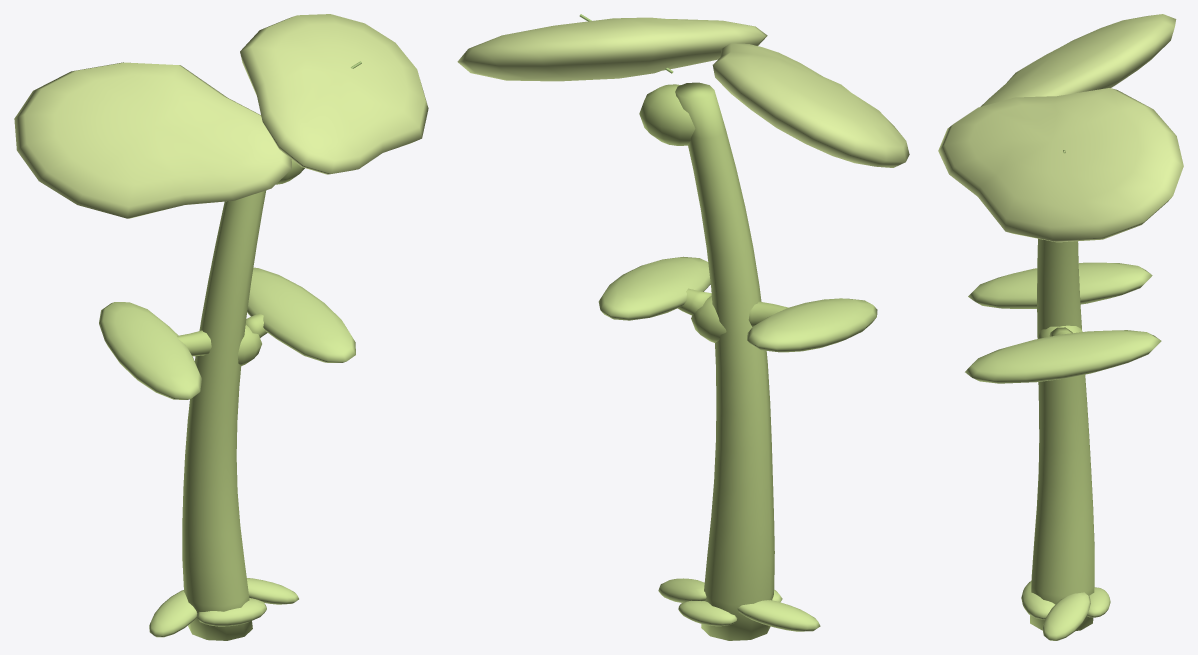
Rendered from young-sprout.glb.
The picture shows the model from 3 angles, left to right: view 1: azimuth 30°, elevation 25°; view 2: azimuth 150°, elevation 25°; view 3: azimuth 270°, elevation 25°; orthographic projection. The views are drawn at different scales.
Visible parts, largest first — view 1: Sprout Top Leaf Left - Big Rounded, Sprout Top Leaf Right - Big Rounded, Sprout Stem - Tall Gentle Curve, Sprout Middle Leaf Left - Small Side, Sprout Middle Leaf Right - Small Side, Sprout Base Leaf Left, Sprout Base Leaf Front, Sprout Base Leaf Right, Sprout Middle Soft Joint, Sprout Middle Petiole Left - Connected; view 2: Sprout Stem - Tall Gentle Curve, Sprout Top Leaf Right - Big Rounded, Sprout Top Leaf Left - Big Rounded, Sprout Middle Leaf Left - Small Side, Sprout Middle Leaf Right - Small Side, Sprout Top Soft Joint, Sprout Base Leaf Left, Sprout Base Leaf Back, Sprout Base Leaf Right, Sprout Middle Soft Joint; view 3: Sprout Top Leaf Right - Big Rounded, Sprout Stem - Tall Gentle Curve, Sprout Top Leaf Left - Big Rounded, Sprout Middle Leaf Right - Small Side, Sprout Middle Leaf Left - Small Side, Sprout Base Leaf Right, Sprout Base Leaf Front, Sprout Base Leaf Back.
Boxes of the visible parts, box(x1,y1,x2,y2) form: Sprout Top Leaf Left - Big Rounded: box(14, 62, 291, 218); Sprout Top Leaf Right - Big Rounded: box(240, 14, 428, 174); Sprout Stem - Tall Gentle Curve: box(182, 190, 266, 640); Sprout Middle Leaf Left - Small Side: box(99, 302, 201, 399); Sprout Middle Leaf Right - Small Side: box(247, 267, 355, 362); Sprout Base Leaf Left: box(149, 590, 197, 637); Sprout Base Leaf Front: box(196, 598, 266, 626); Sprout Base Leaf Right: box(247, 578, 298, 604); Sprout Middle Soft Joint: box(237, 325, 261, 365); Sprout Middle Petiole Left - Connected: box(177, 330, 211, 356); Sprout Stem - Tall Gentle Curve: box(675, 82, 774, 640); Sprout Top Leaf Right - Big Rounded: box(457, 17, 767, 81); Sprout Top Leaf Left - Big Rounded: box(712, 43, 909, 167); Sprout Middle Leaf Left - Small Side: box(747, 298, 877, 352); Sprout Middle Leaf Right - Small Side: box(598, 256, 710, 320); Sprout Top Soft Joint: box(639, 84, 695, 145); Sprout Base Leaf Left: box(737, 600, 820, 631); Sprout Base Leaf Back: box(678, 600, 737, 626); Sprout Base Leaf Right: box(658, 578, 706, 602); Sprout Middle Soft Joint: box(691, 296, 726, 342); Sprout Top Leaf Right - Big Rounded: box(938, 88, 1183, 242); Sprout Stem - Tall Gentle Curve: box(1030, 238, 1094, 631); Sprout Top Leaf Left - Big Rounded: box(980, 14, 1176, 106); Sprout Middle Leaf Right - Small Side: box(965, 330, 1161, 383); Sprout Middle Leaf Left - Small Side: box(968, 262, 1152, 308); Sprout Base Leaf Right: box(1042, 592, 1090, 640); Sprout Base Leaf Front: box(1021, 581, 1055, 619); Sprout Base Leaf Back: box(1087, 587, 1110, 617).
Size of the model in its own units: 1.53 by 2.07 by 0.8247.
